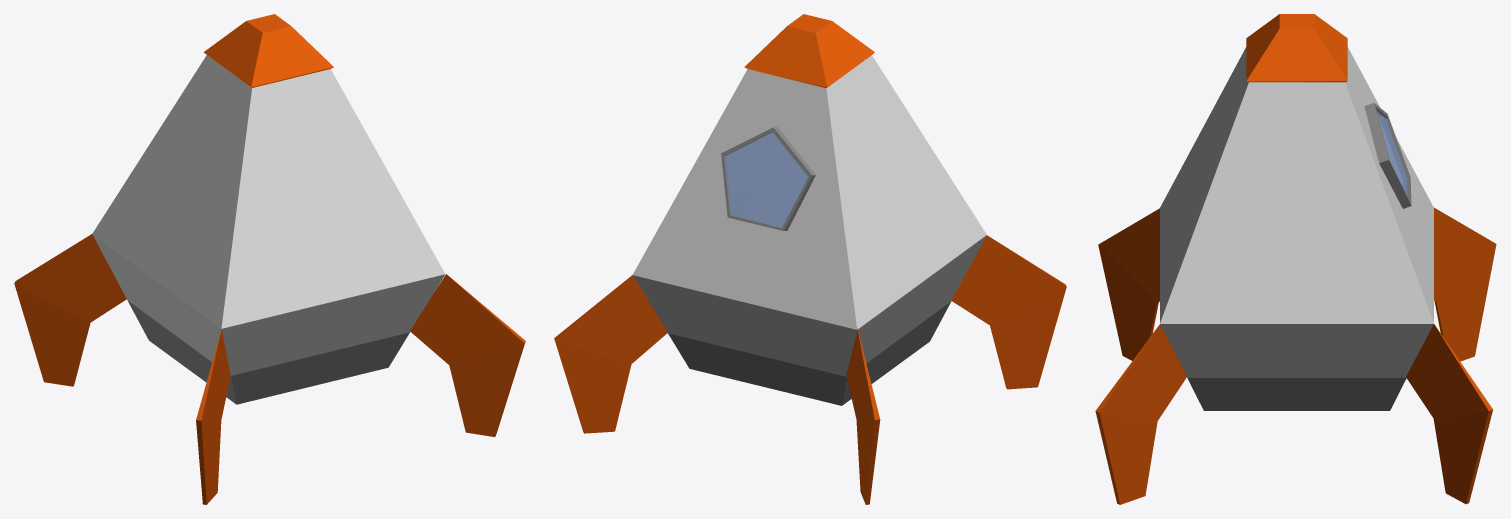
File: Rocket3_updated.fbx
The picture shows the model from 3 angles, left to right: view 1: azimuth 30°, elevation 25°; view 2: azimuth 150°, elevation 25°; view 3: azimuth 270°, elevation 25°; orthographic projection. The views are drawn at different scales.
Visible parts, largest first — view 1: pCube6; view 2: pCube6; view 3: pCube6.
Boxes of the visible parts, box(x1,y1,x2,y2) form: pCube6: box(14, 14, 525, 504); pCube6: box(554, 14, 1066, 504); pCube6: box(1095, 14, 1496, 504).
Bounding box in the file's own units: 5.28 × 5.92 × 5.26.
